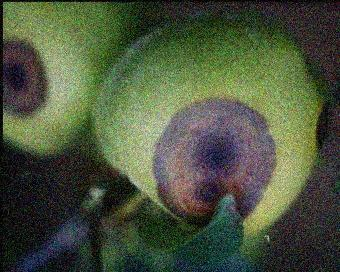rotten apple: (93, 11, 329, 249), (4, 1, 138, 161)
